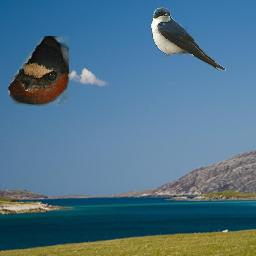Swallow: (151, 7, 226, 71), (8, 36, 69, 106)
